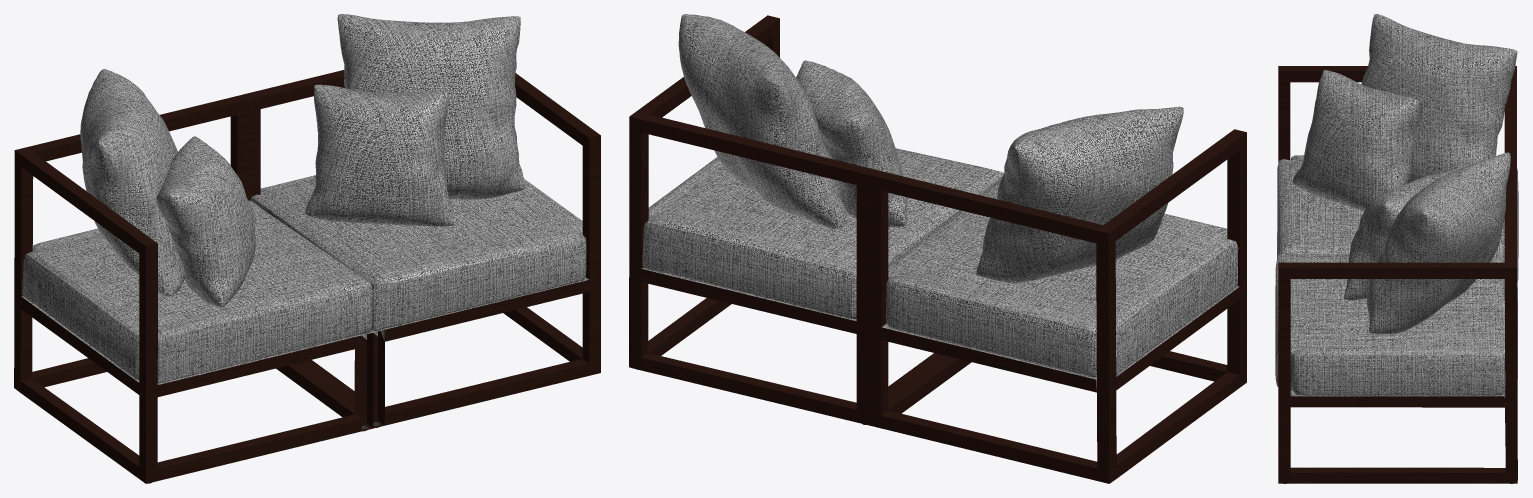
3 renders of one model, left to right at view 1: azimuth 30°, elevation 25°; view 2: azimuth 150°, elevation 25°; view 3: azimuth 270°, elevation 25°, orthographic. The views are drawn at different scales.
Parts seen in each view (by area): view 1: C-skp361.001, C-skp361; view 2: C-skp361.001, C-skp361; view 3: C-skp361, C-skp361.001.
Boxes of the visible parts, x1=… form: C-skp361.001: x1=14, y1=69, x2=373, y2=483; C-skp361: x1=242, y1=14, x2=600, y2=428; C-skp361.001: x1=869, y1=106, x2=1246, y2=483; C-skp361: x1=629, y1=14, x2=1003, y2=425; C-skp361: x1=1275, y1=152, x2=1517, y2=483; C-skp361.001: x1=1277, y1=14, x2=1518, y2=281.
Size of the model in its own units: 1.27 by 0.7963 by 0.6418.
Materials: 3 (2 with a texture image).
